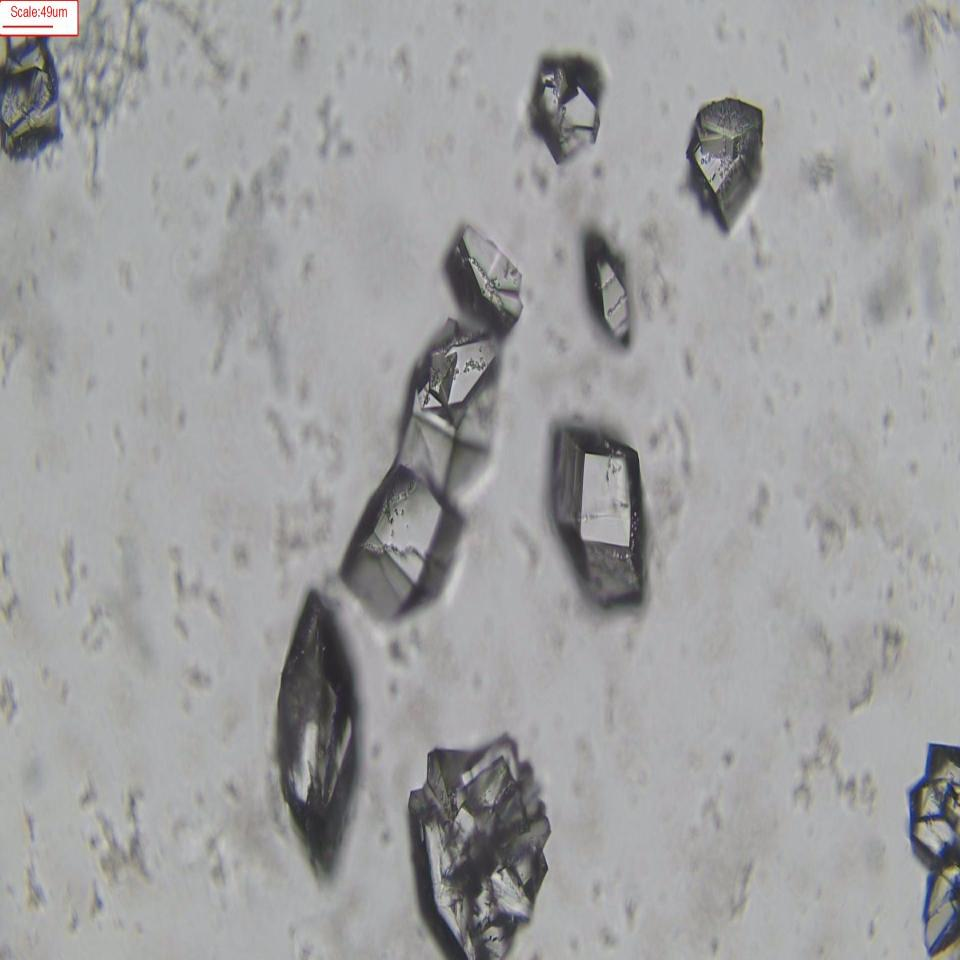crystal: (269, 582, 360, 850), (343, 465, 468, 615), (397, 323, 502, 490), (546, 416, 634, 612), (684, 91, 766, 231), (0, 35, 70, 176), (532, 56, 604, 167), (583, 240, 634, 353)
not_crystal: (403, 738, 554, 954)
